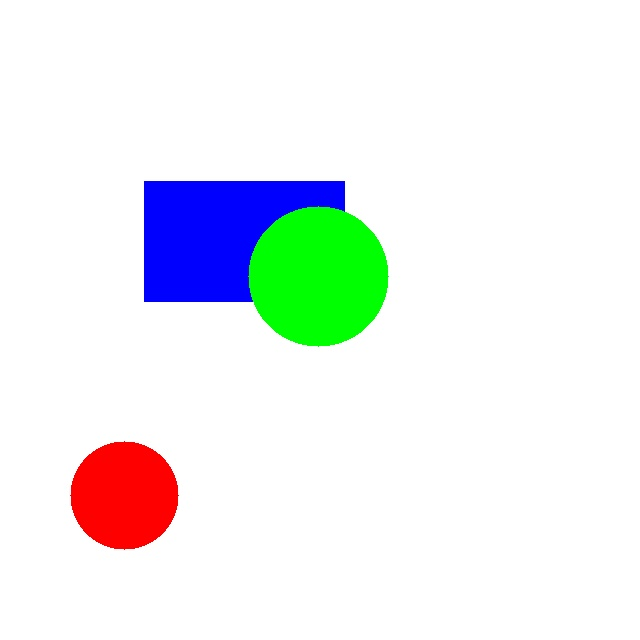cartao: (144, 181, 344, 301)
rosca_externa: (248, 206, 388, 346)
rosca_interna: (70, 441, 178, 549)
